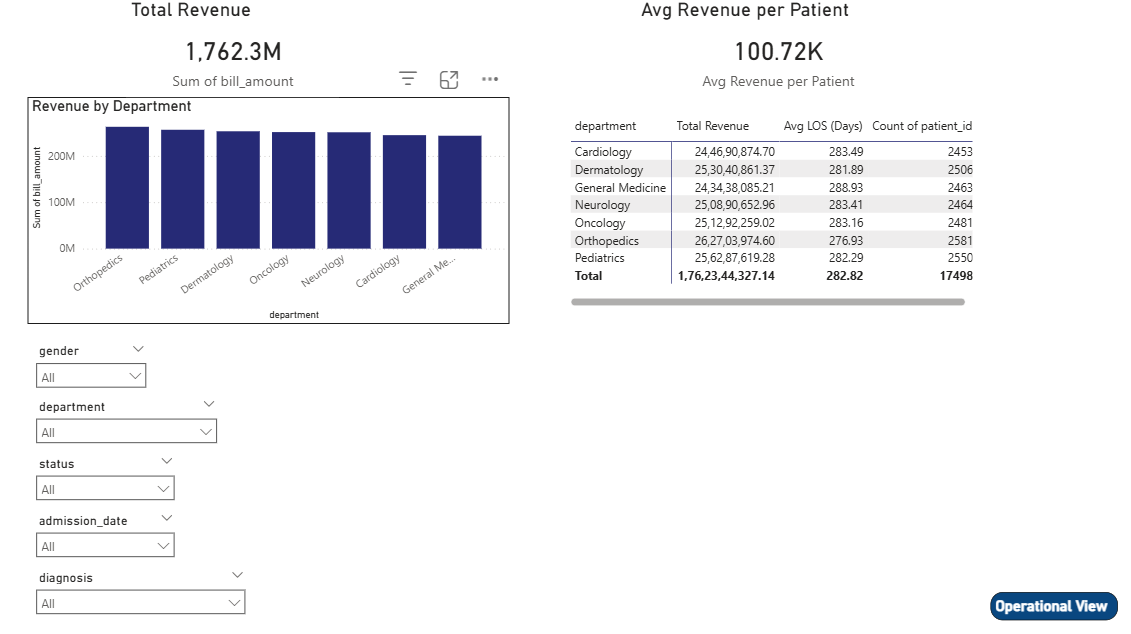

The dashboard page shown, as its layout file describes it:
{"tool":"powerbi","page":{"name":"Page 2","canvas":[1280,720],"ordinal":1},"visuals":[{"type":"columnChart","title":"Revenue by Department","fields":{"Category":["healthcare_data.department"],"Y":["Sum(healthcare_data.bill_amount)"]},"box":[32,112,544,256],"z":0},{"type":"pivotTable","fields":{"Rows":["healthcare_data.department"],"Values":["Sum(healthcare_data.bill_amount)","Avg(healthcare_data.Length_of_Stay)","CountNonNull(healthcare_data.patient_id)"]},"box":[640,128,464,224],"z":1000},{"type":"slicer","fields":{"Values":["healthcare_data.gender"]},"box":[32,384,144,64],"z":2000},{"type":"slicer","fields":{"Values":["healthcare_data.department"]},"box":[32,448,224,64],"z":3000},{"type":"slicer","fields":{"Values":["healthcare_data.diagnosis"]},"box":[32,640,256,64],"z":4000},{"type":"slicer","fields":{"Values":["healthcare_data.admission_date"]},"box":[32,576,176,64],"z":5000},{"type":"slicer","fields":{"Values":["healthcare_data.status"]},"box":[32,512,176,64],"z":6000},{"type":"card","title":"Total Revenue","fields":{"Values":["Sum(healthcare_data.bill_amount)"]},"box":[144,0,240,112],"z":7000},{"type":"card","title":"Avg Revenue per Patient","fields":{"Values":["healthcare_data.Avg Revenue per Patient"]},"box":[720,0,320,112],"z":8000},{"type":"actionButton","title":"Operational View","box":[1120,672,144,32],"z":10000}]}

Visuals, with their boxes in screenshot pixels (x1, y1, x2, y2), scaled from the page's 1280x720 canvas onto the 1131x634 screenshot:
"Revenue by Department" columnChart: [28, 99, 509, 324]
pivotTable - healthcare_data.department x Sum(healthcare_data.bill_amount): [566, 113, 975, 310]
slicer - healthcare_data.gender: [28, 338, 156, 394]
slicer - healthcare_data.department: [28, 394, 226, 451]
slicer - healthcare_data.diagnosis: [28, 564, 254, 620]
slicer - healthcare_data.admission_date: [28, 507, 184, 564]
slicer - healthcare_data.status: [28, 451, 184, 507]
"Total Revenue" card: [127, 0, 339, 99]
"Avg Revenue per Patient" card: [636, 0, 919, 99]
"Operational View" actionButton: [990, 592, 1117, 620]
